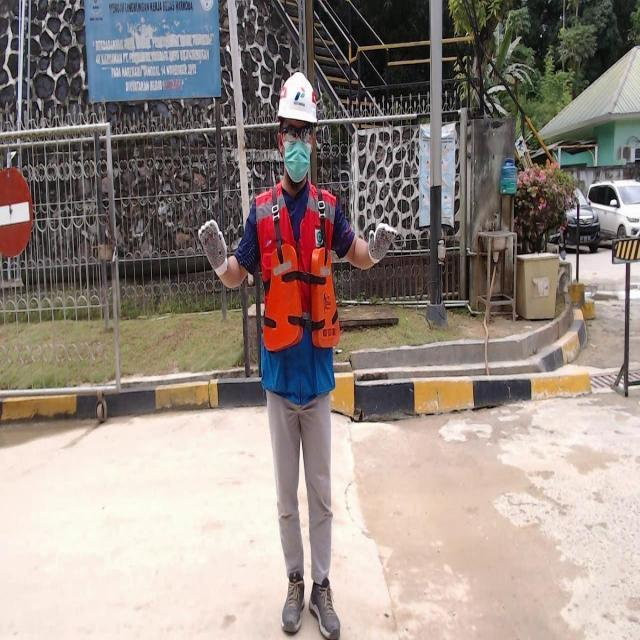hat: (278, 71, 318, 124)
